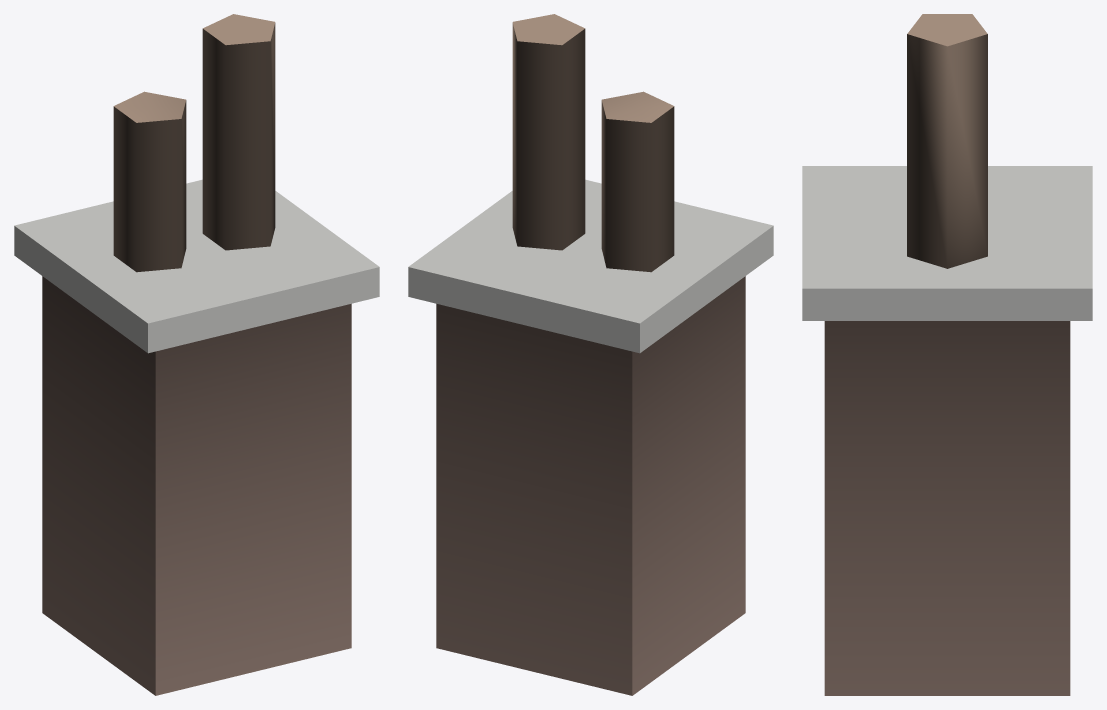
Rendered from vent_stack.lod2.glb.
3 views of the same model, side by side, from view 1: azimuth 30°, elevation 25°; view 2: azimuth 150°, elevation 25°; view 3: azimuth 270°, elevation 25° (orthographic). The views are drawn at different scales.
Visible parts, largest first — view 1: props_vent_stack.lod2; view 2: props_vent_stack.lod2; view 3: props_vent_stack.lod2.
Boxes of the visible parts, x1,y1,x2,y2 form: props_vent_stack.lod2: [14, 14, 379, 695]; props_vent_stack.lod2: [408, 14, 773, 695]; props_vent_stack.lod2: [802, 14, 1092, 695].
Size of the model in its own units: 1.3 by 3.16 by 1.3.
